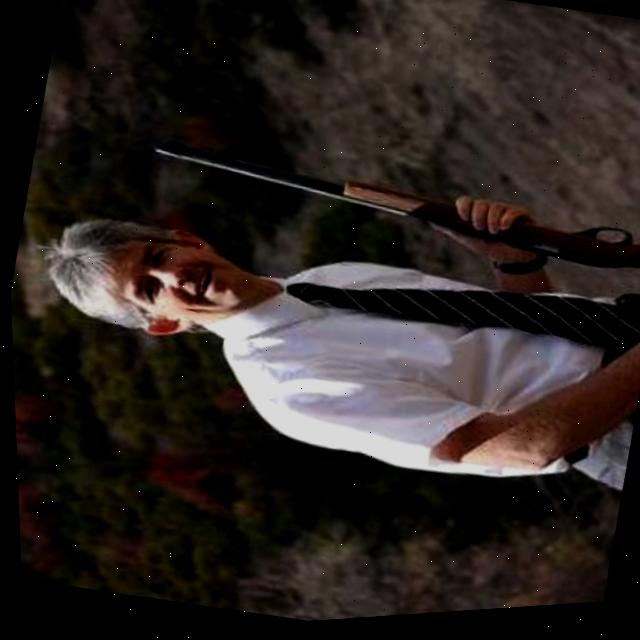rifle: (140, 94, 640, 324)
